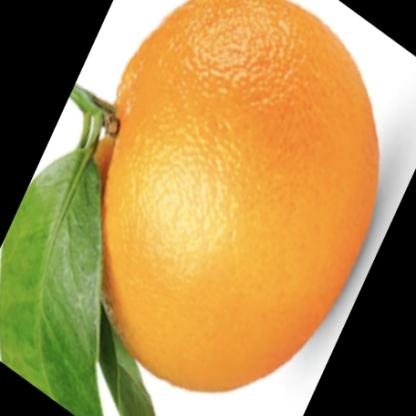fresh: (73, 1, 379, 392)
